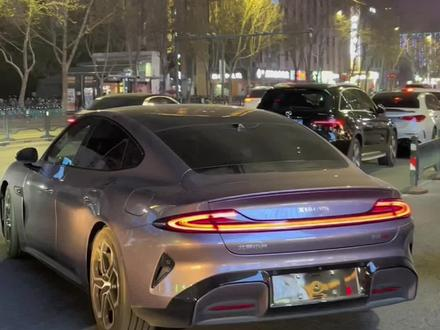other: (263, 78, 398, 170), (375, 89, 440, 146)
su7: (14, 104, 418, 330)
